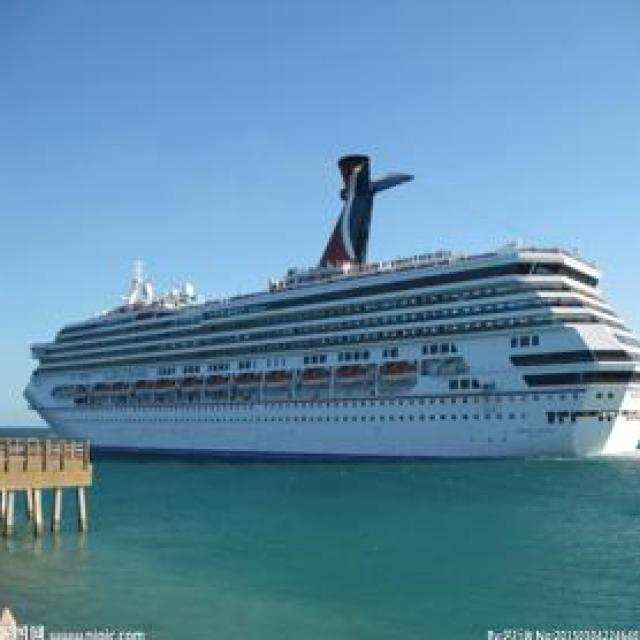passenger ship: (20, 142, 640, 469)
